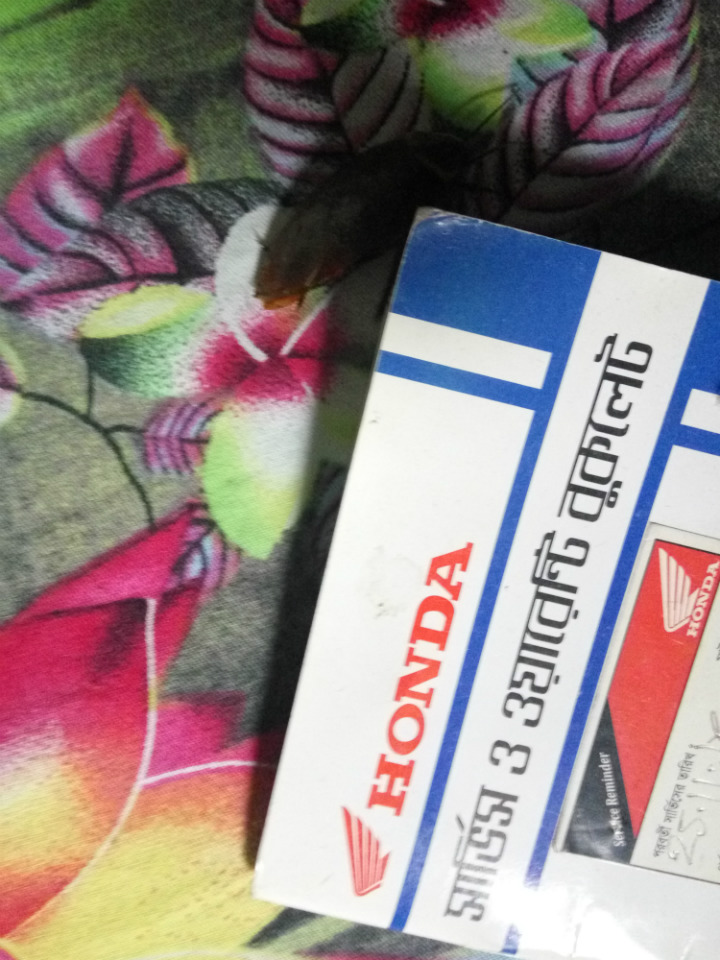cockroach: (128, 102, 615, 324)
